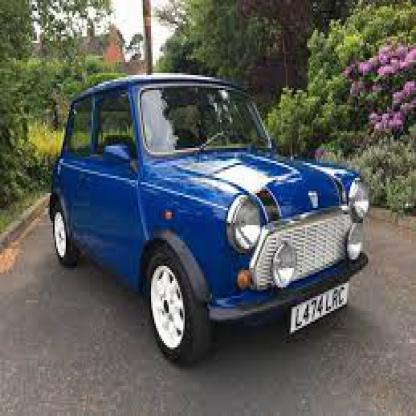car: (47, 73, 374, 367)
